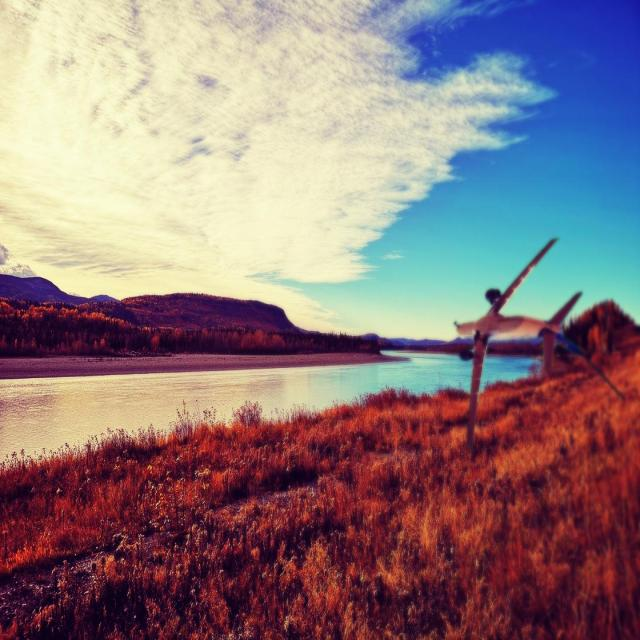airplane: (455, 236, 624, 450)
